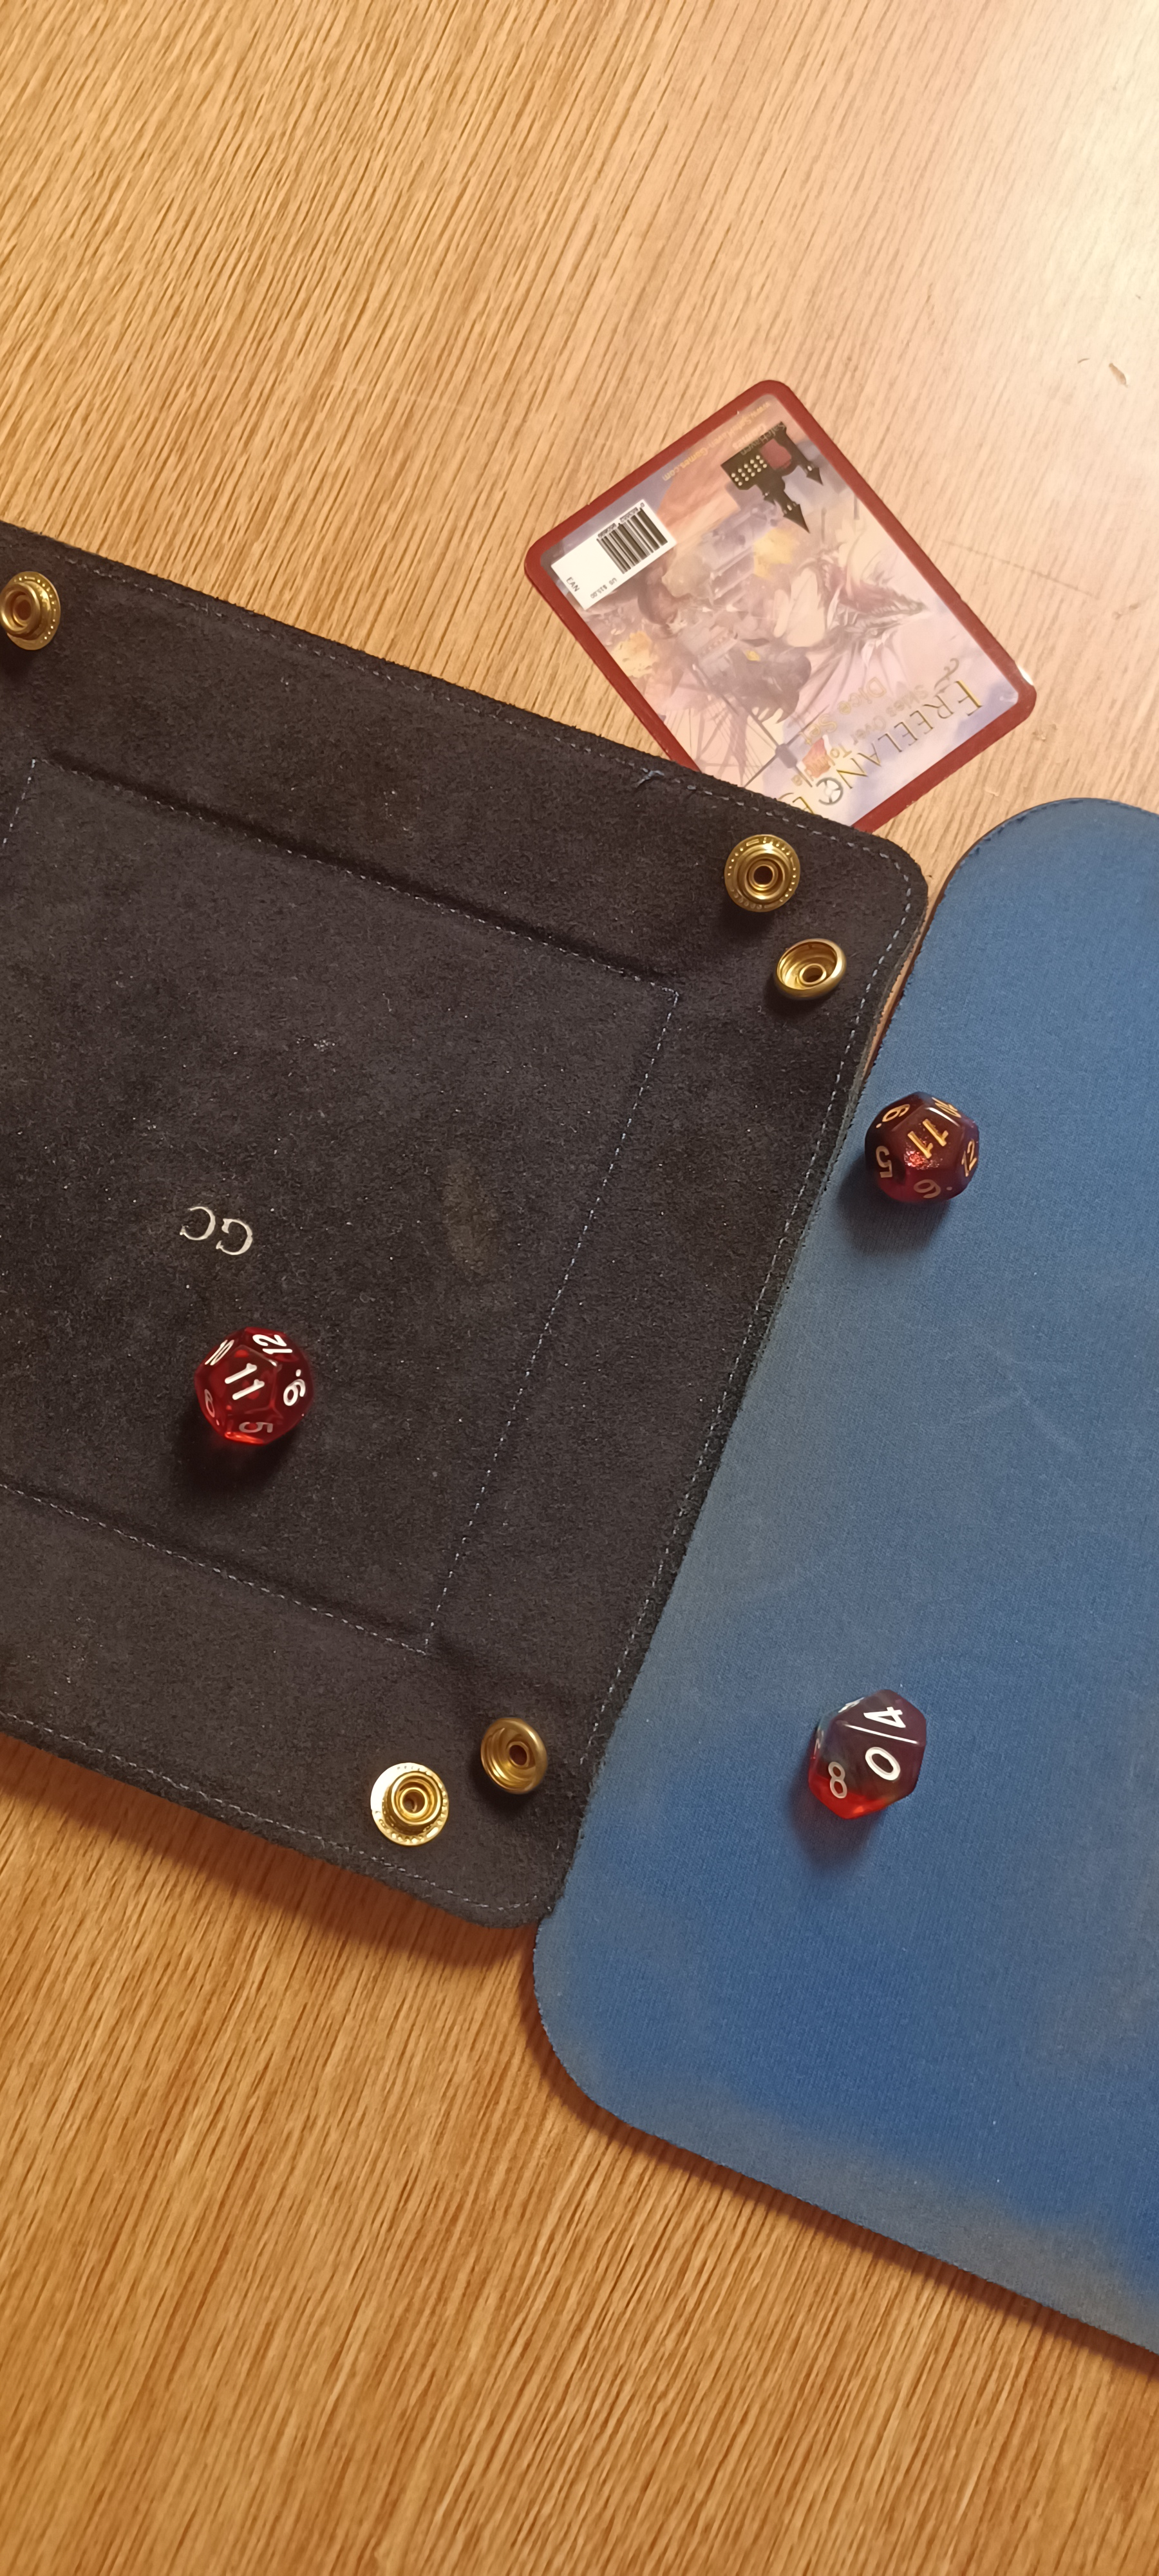eleven: (836, 1069, 1019, 1244), (158, 1316, 335, 1449)
zero: (773, 1654, 955, 1840)
